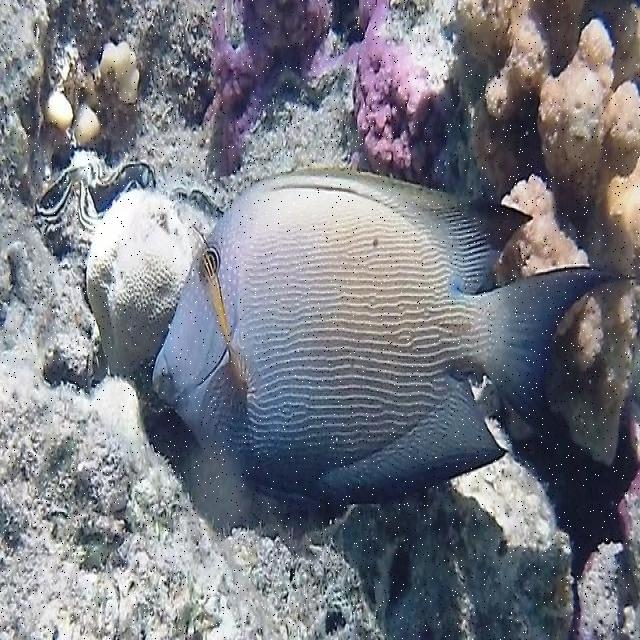fish: (153, 153, 623, 506)
reefs: (451, 1, 639, 465), (208, 1, 343, 175), (342, 1, 438, 172)
